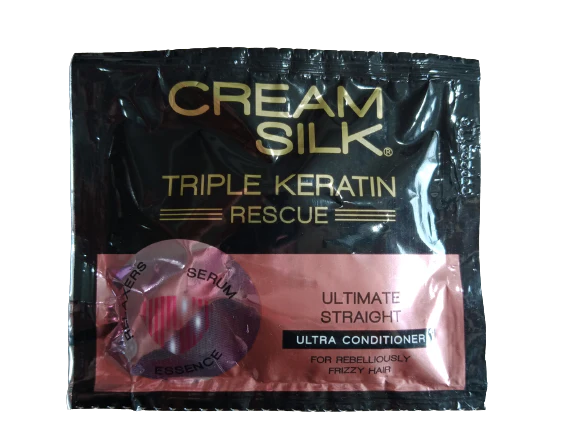toxic_waste: (73, 48, 484, 410)
